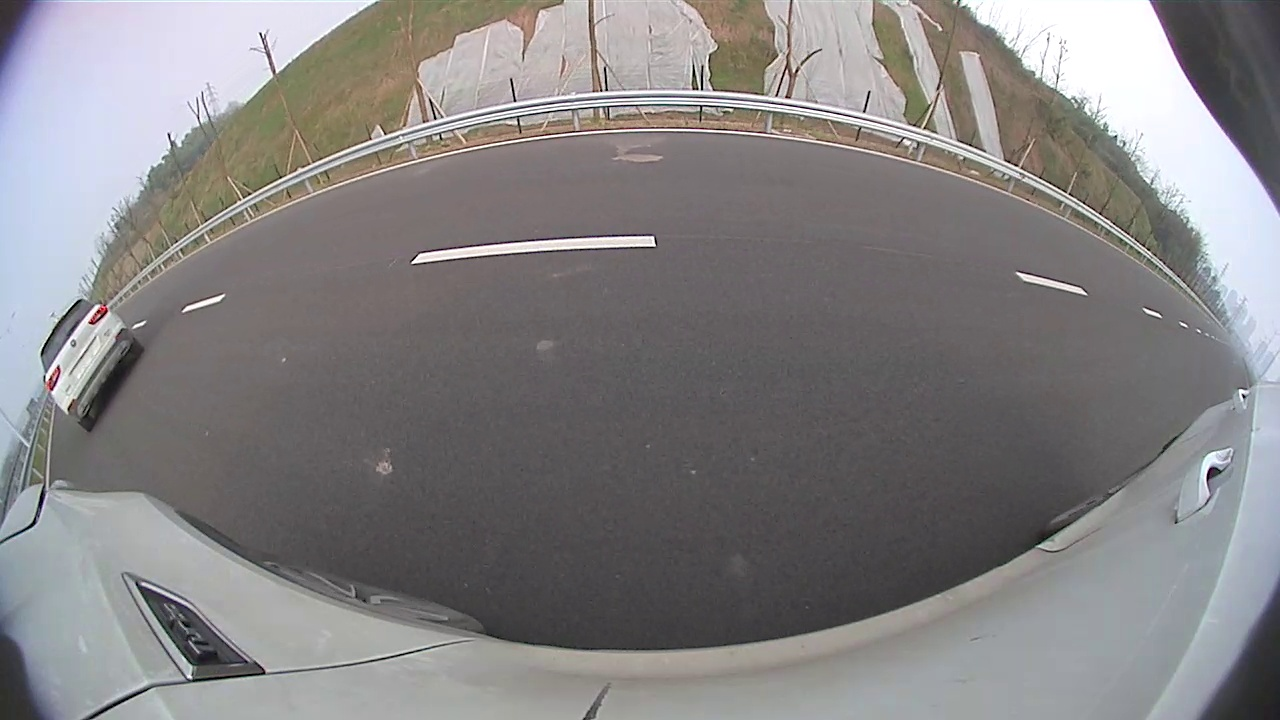car: (40, 296, 144, 430)
